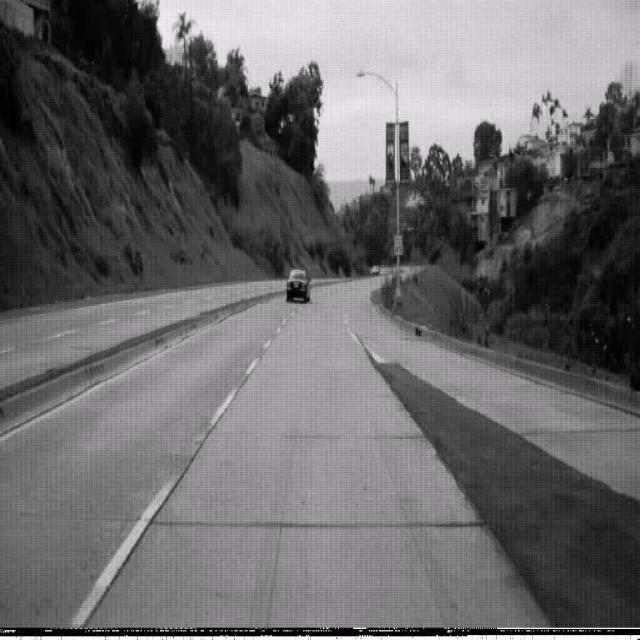speedLimit45: (393, 233, 403, 256)
